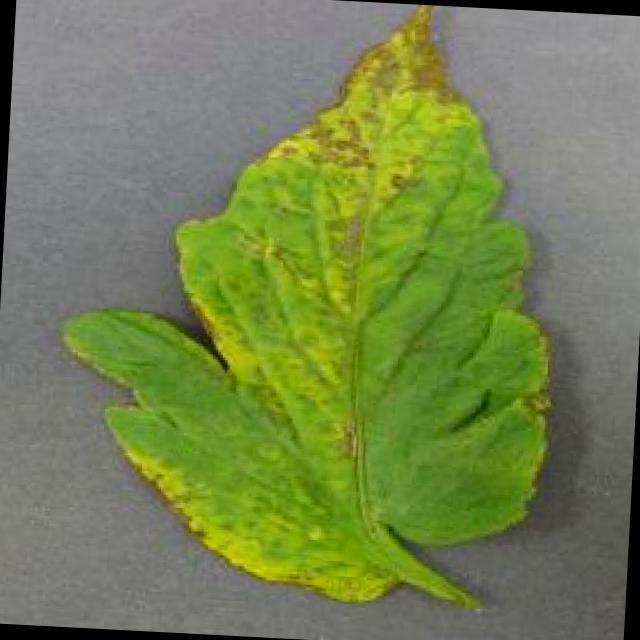Tomato bacterial spot leaf: (43, 0, 576, 617)
